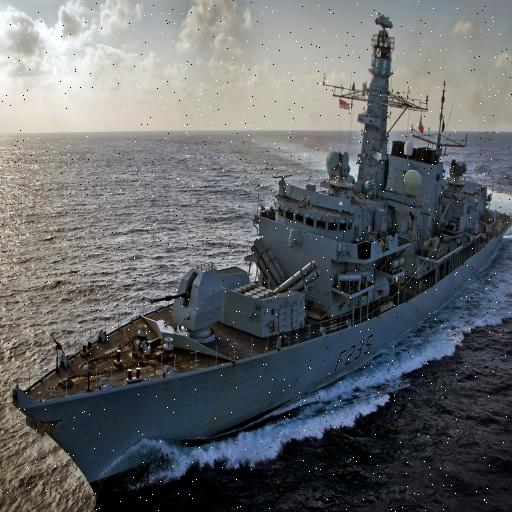Fragata: (1, 1, 359, 507)
